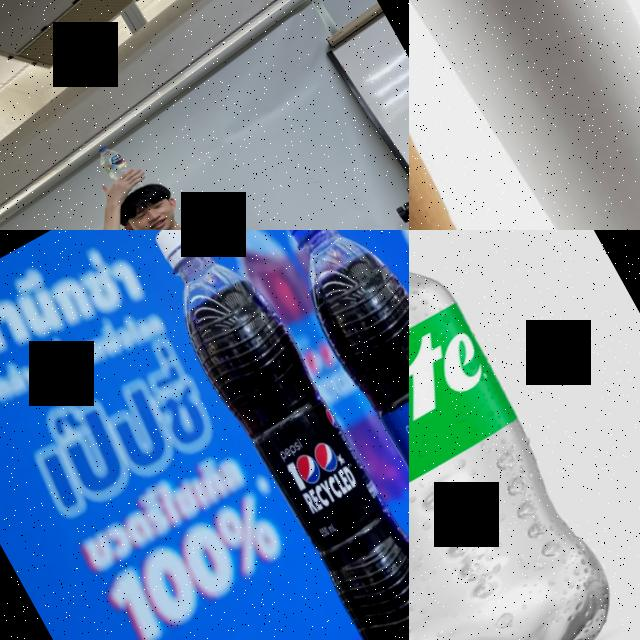bottle: (133, 230, 409, 640), (409, 230, 636, 640), (257, 230, 409, 640), (93, 137, 146, 200)
cup: (409, 0, 640, 230), (409, 0, 571, 230)
